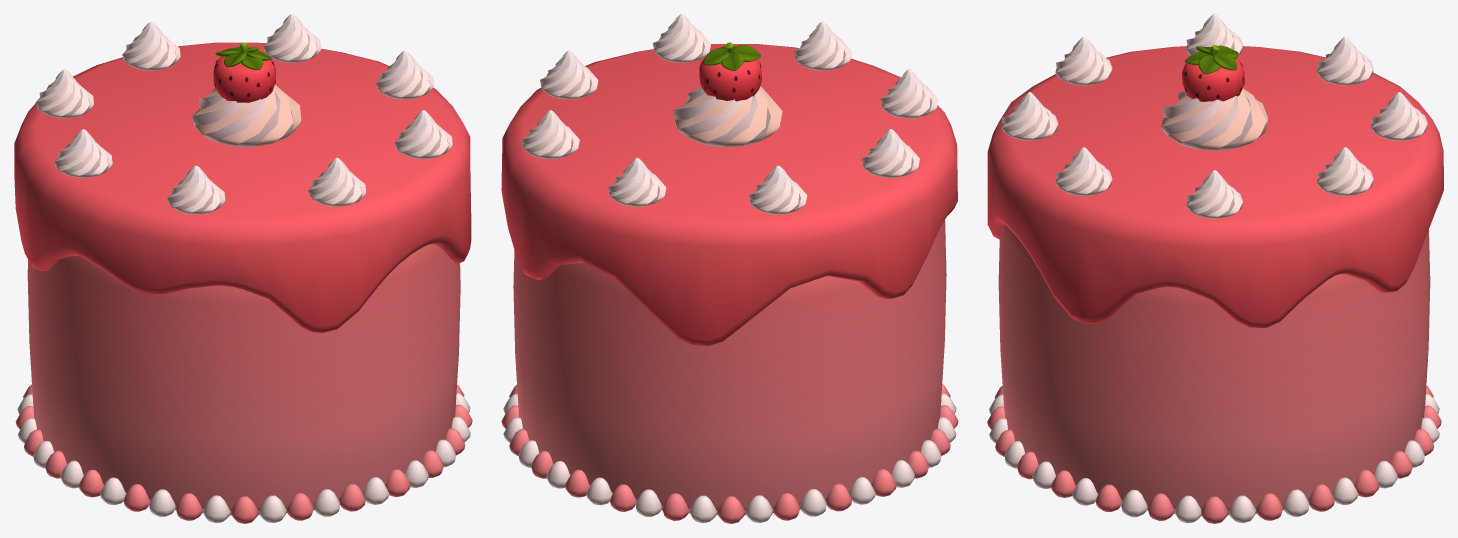
The model's file is Cake_Strawberry_V2_00.fbx.
3 renders of one model, left to right at view 1: azimuth 30°, elevation 25°; view 2: azimuth 150°, elevation 25°; view 3: azimuth 270°, elevation 25°, orthographic.
Visible parts, largest first — view 1: Cake_Strawberry_V2_00; view 2: Cake_Strawberry_V2_00; view 3: Cake_Strawberry_V2_00.
Boxes of the visible parts, bbox=[...] form: Cake_Strawberry_V2_00: bbox=[14, 14, 472, 523]; Cake_Strawberry_V2_00: bbox=[501, 14, 958, 523]; Cake_Strawberry_V2_00: bbox=[987, 14, 1443, 523].
Size of the model in its own units: 65.76 by 61.66 by 65.84.
